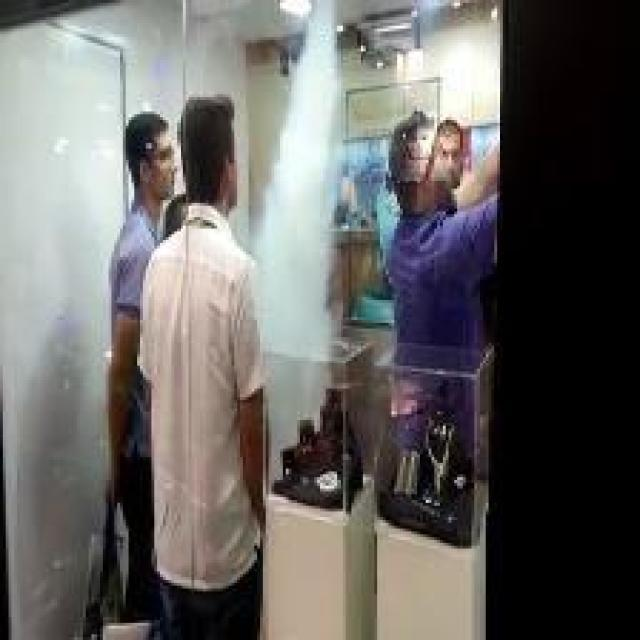fire: (252, 47, 342, 450)
